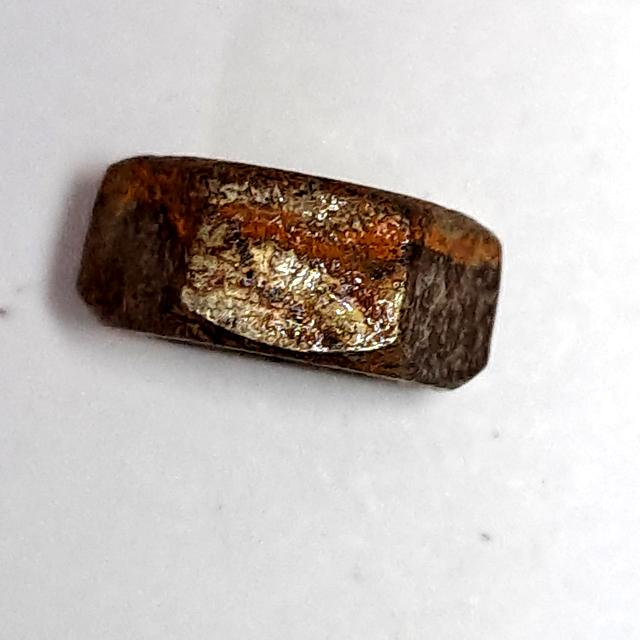Side_Rust: (66, 130, 510, 410)
